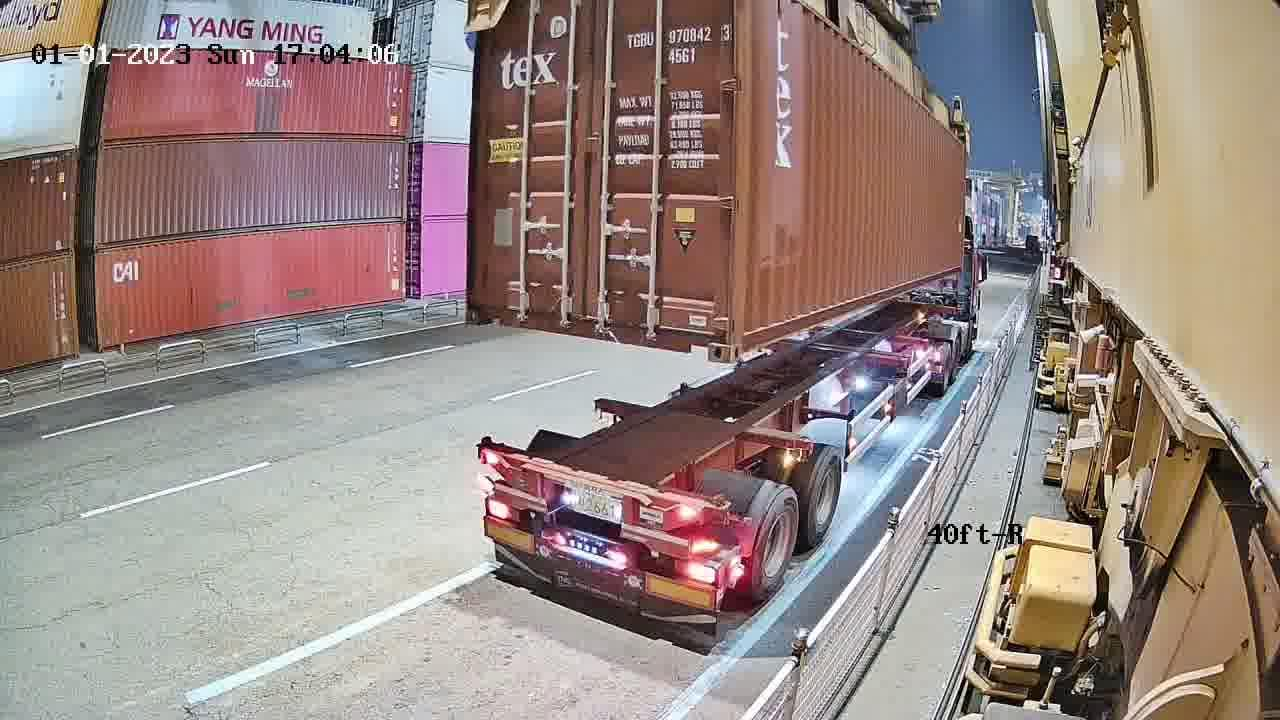Chassis: (478, 446, 705, 529)
Cone: (705, 492, 731, 519), (475, 430, 492, 457)
Hole_L: (727, 310, 757, 361), (463, 288, 499, 327)
Hole_R: (688, 318, 727, 360)
Tire: (752, 493, 798, 598), (800, 448, 841, 544)
